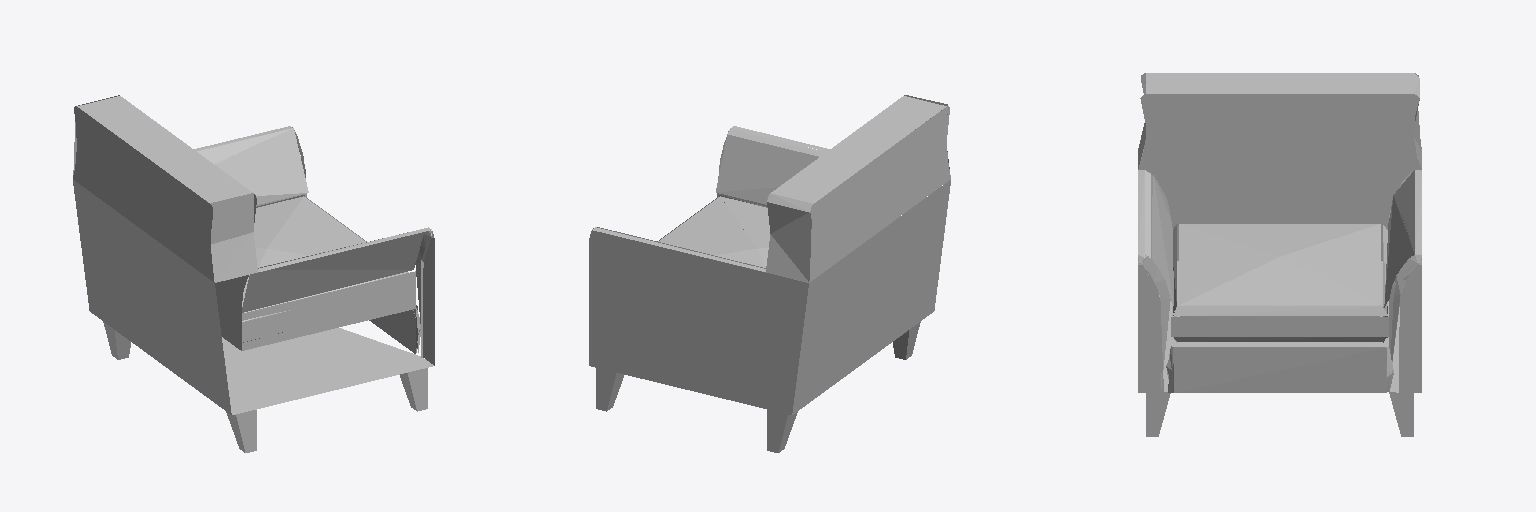
File: poltrona_2K.obj
The picture shows the model from 3 angles: view 1: azimuth 30°, elevation 25°; view 2: azimuth 150°, elevation 25°; view 3: azimuth 270°, elevation 25°; orthographic projection.
Visible parts, largest first — view 1: poltrona; view 2: poltrona; view 3: poltrona.
Part boxes in pixels (x1,y1,x2,y2): poltrona: (73,95,434,452); poltrona: (589,95,950,452); poltrona: (1138,73,1421,436).
Size of the model in its own units: 0.7871 by 0.869 by 0.8639.